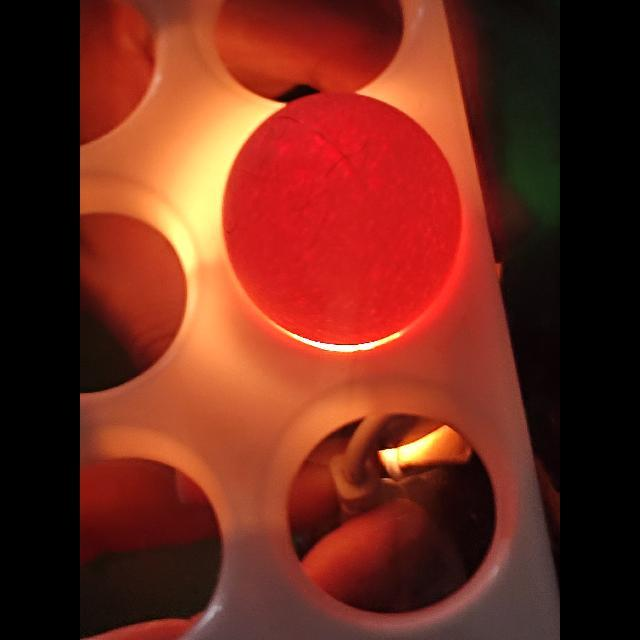Infertile: (223, 88, 461, 352)
